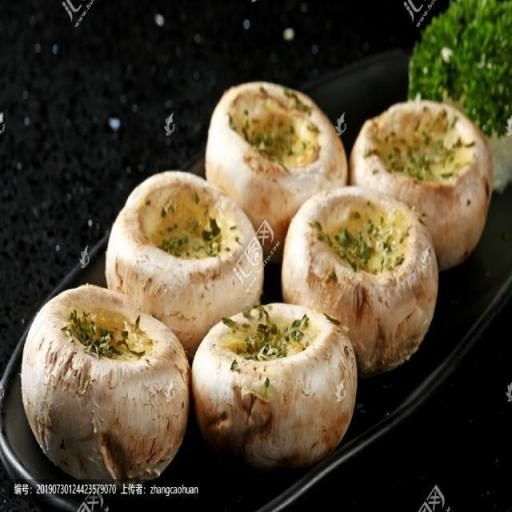Button Mushroom: (30, 285, 190, 484), (289, 192, 436, 367), (105, 170, 265, 330), (195, 308, 357, 461), (352, 100, 493, 266), (205, 82, 346, 224)
